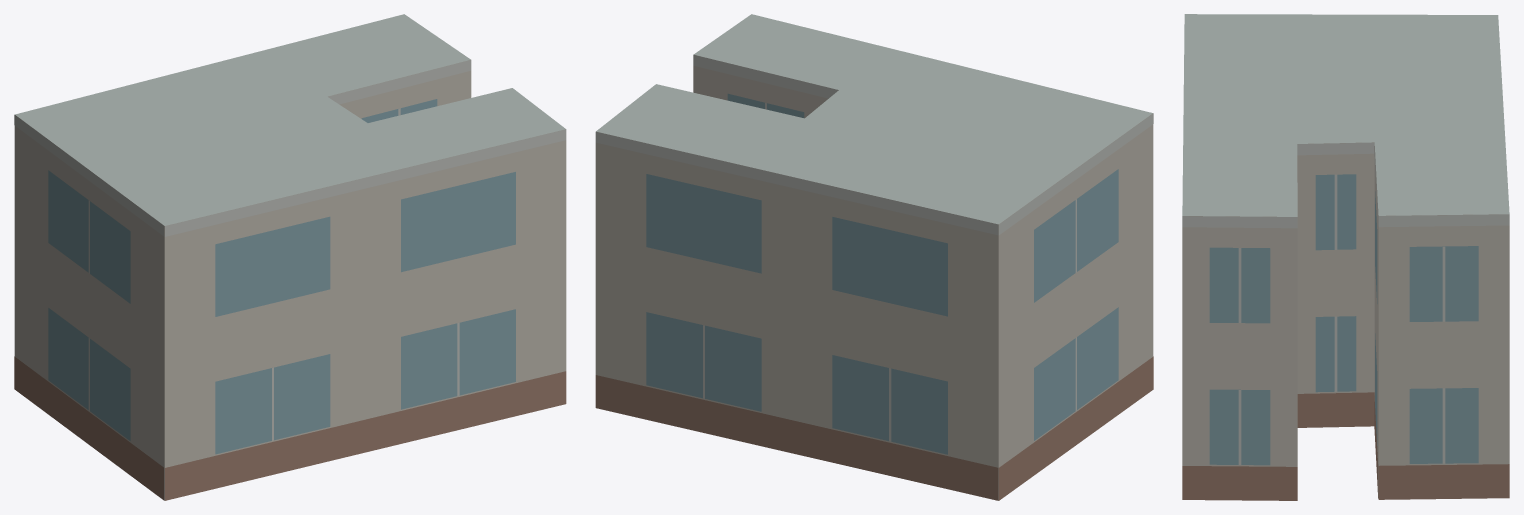
The model's file is survey-upis-32831585.glb.
The picture shows the model from 3 angles, left to right: view 1: azimuth 30°, elevation 25°; view 2: azimuth 150°, elevation 25°; view 3: azimuth 270°, elevation 25°; orthographic projection. The views are drawn at different scales.
Parts seen in each view (by area): view 1: survey-upis-32831585.tmp; view 2: survey-upis-32831585.tmp; view 3: survey-upis-32831585.tmp.
Part boxes in pixels (x1,y1,x2,y2): survey-upis-32831585.tmp: [14, 14, 566, 500]; survey-upis-32831585.tmp: [595, 14, 1153, 500]; survey-upis-32831585.tmp: [1182, 14, 1509, 500].
Bounding box in the file's own units: 9.36 × 6.1 × 6.39.
